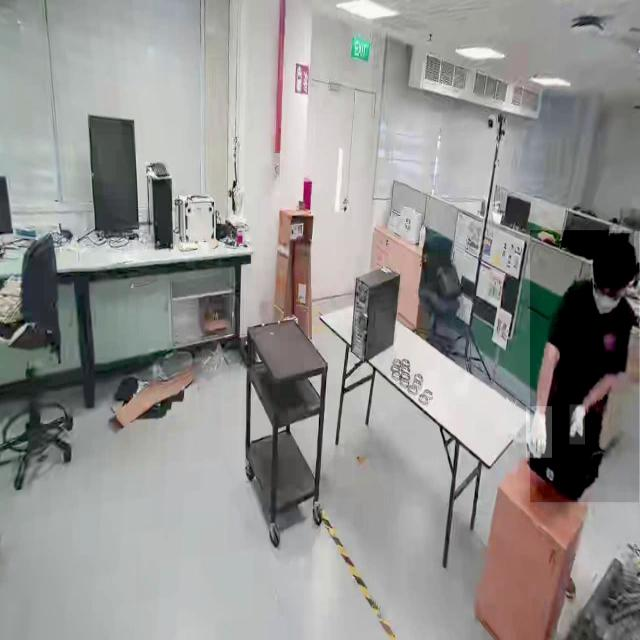face_mask: (591, 271, 627, 324)
hand_glove: (526, 406, 552, 459), (570, 404, 586, 446)
head_nohelmet: (594, 233, 634, 283)
person: (530, 230, 640, 503)
